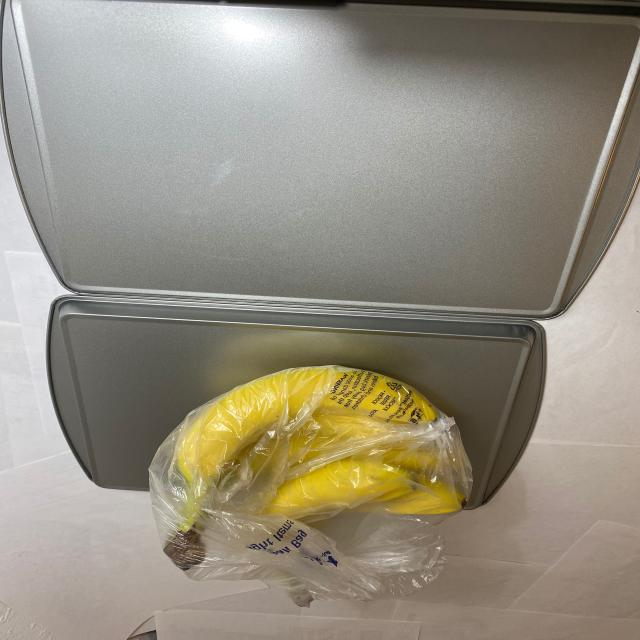banana: (156, 364, 483, 591)
